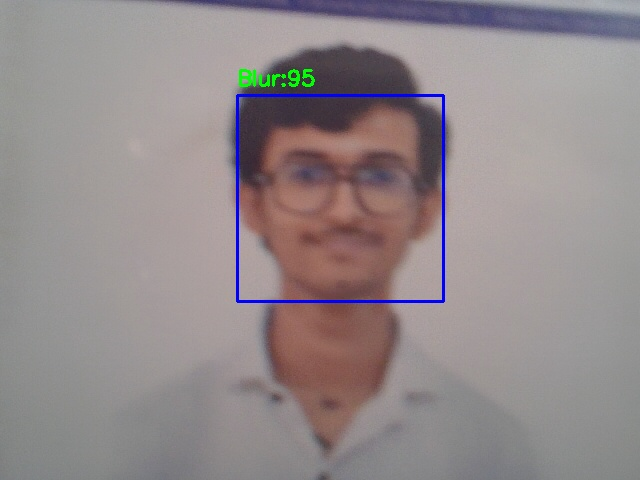fake: (237, 95, 443, 301)
